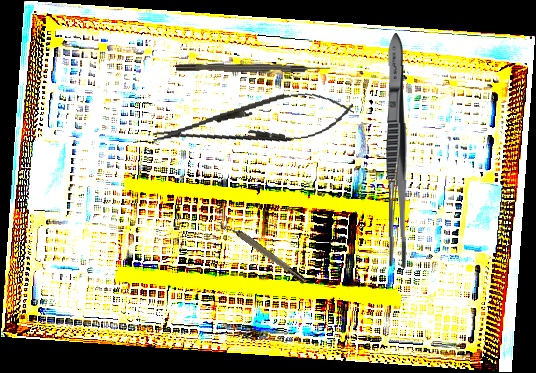Dressing Forceps: (383, 32, 411, 271)
Fixation Ring: (217, 215, 308, 288)
Hook Surgical: (175, 62, 331, 74)
Needle Holder: (149, 83, 357, 161)
